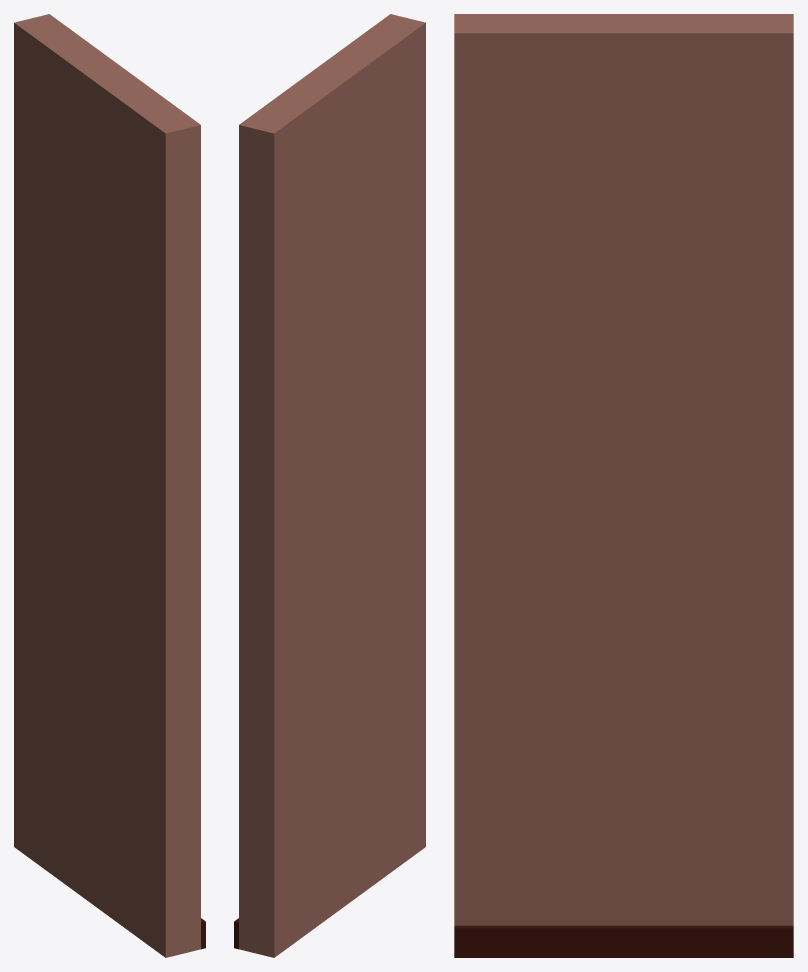
File: T_MurSimple_01.fbx
The picture shows the model from 3 angles, left to right: view 1: azimuth 30°, elevation 25°; view 2: azimuth 150°, elevation 25°; view 3: azimuth 270°, elevation 25°; orthographic projection. The views are drawn at different scales.
Visible parts, largest first — view 1: T_MurSimple_01; view 2: T_MurSimple_01; view 3: T_MurSimple_01.
Boxes of the visible parts, x1,y1,x2,y2 form: T_MurSimple_01: [14, 14, 205, 957]; T_MurSimple_01: [234, 14, 425, 957]; T_MurSimple_01: [454, 14, 793, 957].
Bounding box in the file's own units: 15.31 × 300 × 100.
